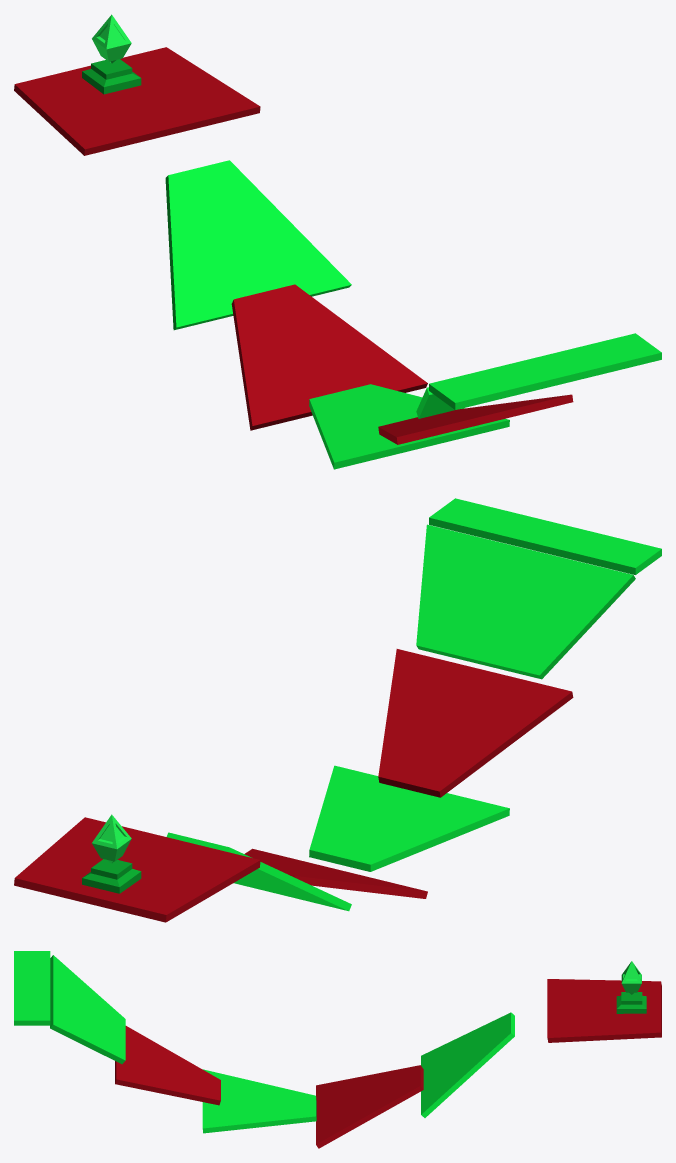
Rendered from Level 3.fbx.
3 renders of one model, top to bottom at view 1: azimuth 30°, elevation 25°; view 2: azimuth 150°, elevation 25°; view 3: azimuth 270°, elevation 25°, orthographic. The views are drawn at different scales.
Visible parts, largest first — view 1: Cube.034, Cube.033, Cube.035, Cube.032, Cube.029, Cube.031, Cube.016, Cube.017; view 2: Cube.030, Cube.031, Cube.035, Cube.032, Cube.029, Cube.033, Cube.034, Cube.016, Cube.017; view 3: Cube.035, Cube.033, Cube.030, Cube.032, Cube.031, Cube.034, Cube.029, Cube.016, Cube.017.
Part boxes in pixels (x1=…): Cube.034: x1=165, y1=160, x2=351, y2=330; Cube.033: x1=231, y1=284, x2=427, y2=430; Cube.035: x1=14, y1=47, x2=260, y2=155; Cube.032: x1=309, y1=384, x2=509, y2=469; Cube.029: x1=429, y1=333, x2=661, y2=409; Cube.031: x1=378, y1=394, x2=573, y2=444; Cube.016: x1=82, y1=59, x2=141, y2=94; Cube.017: x1=92, y1=14, x2=131, y2=63; Cube.030: x1=416, y1=524, x2=635, y2=679; Cube.031: x1=378, y1=649, x2=573, y2=797; Cube.035: x1=14, y1=817, x2=260, y2=922; Cube.032: x1=309, y1=765, x2=509, y2=871; Cube.029: x1=429, y1=498, x2=661, y2=574; Cube.033: x1=244, y1=848, x2=427, y2=898; Cube.034: x1=166, y1=832, x2=351, y2=911; Cube.016: x1=82, y1=859, x2=141, y2=893; Cube.017: x1=92, y1=814, x2=131, y2=863; Cube.035: x1=547, y1=979, x2=661, y2=1042; Cube.033: x1=316, y1=1065, x2=423, y2=1148; Cube.030: x1=50, y1=955, x2=125, y2=1064; Cube.032: x1=202, y1=1069, x2=316, y2=1133; Cube.031: x1=115, y1=1026, x2=220, y2=1105; Cube.034: x1=421, y1=1012, x2=514, y2=1117; Cube.029: x1=14, y1=951, x2=50, y2=1025; Cube.016: x1=616, y1=992, x2=646, y2=1013; Cube.017: x1=621, y1=961, x2=641, y2=994.
Size of the model in its own units: 2391 by 2533 by 9390.
